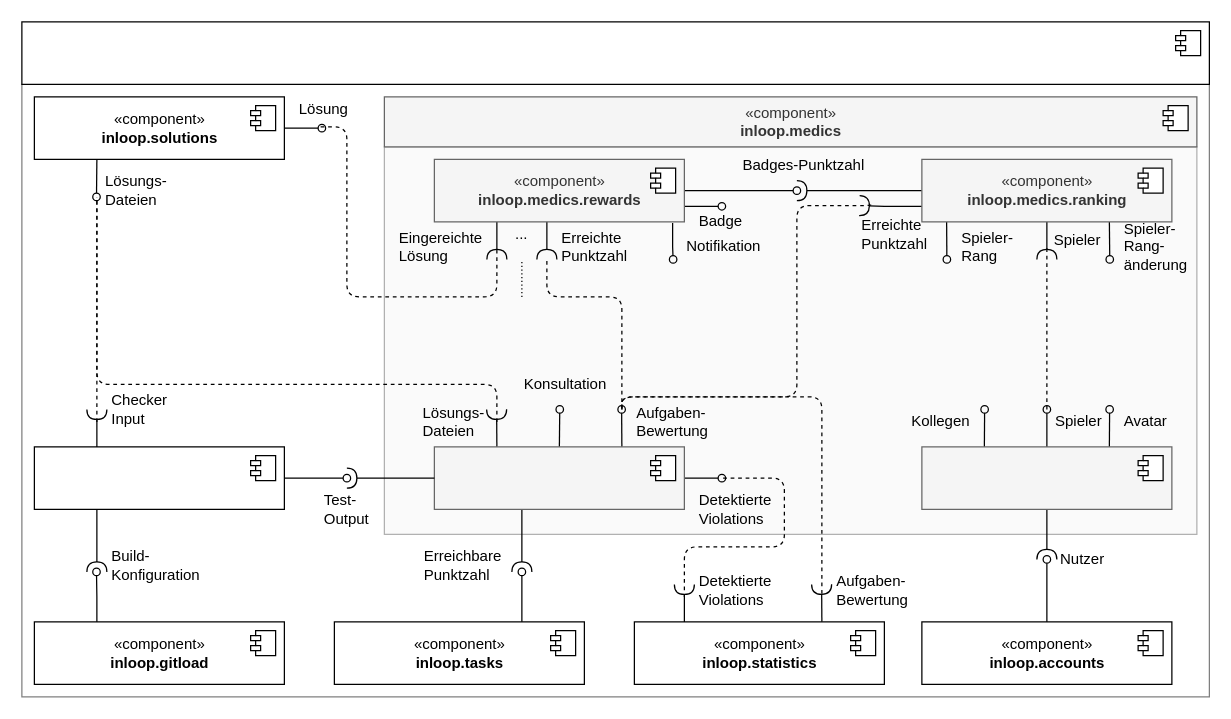
This 1231x719 diagram has some shape labels left out. Each missing label, with the box of its shape:
«component» inloop: (21, 21, 1209, 84)
«component» inloop.medics.social: (921, 446, 1172, 509)
«component» inloop.medics.violations: (433, 446, 684, 509)
«component» inloop.testrunner: (33, 446, 284, 509)
